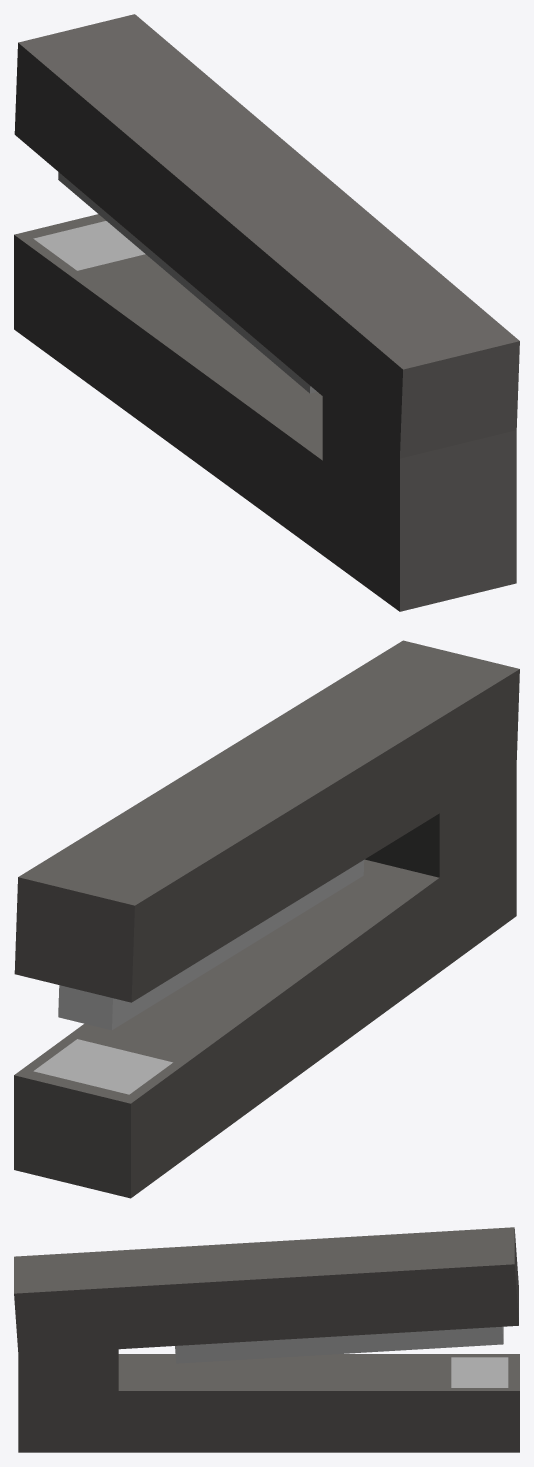
The model's file is SO_Stapler.fbx.
3 views of the same model, one above another, from view 1: azimuth 30°, elevation 25°; view 2: azimuth 150°, elevation 25°; view 3: azimuth 270°, elevation 25° (orthographic). The views are drawn at different scales.
Parts seen in each view (by area): view 1: SO_Stapler; view 2: SO_Stapler; view 3: SO_Stapler.
Part boxes in pixels (<box>): SO_Stapler: <box>14,14,519,611</box>; SO_Stapler: <box>14,640,519,1198</box>; SO_Stapler: <box>14,1227,519,1452</box>.
Size of the model in its own units: 0.0815 by 0.1931 by 0.4698.
